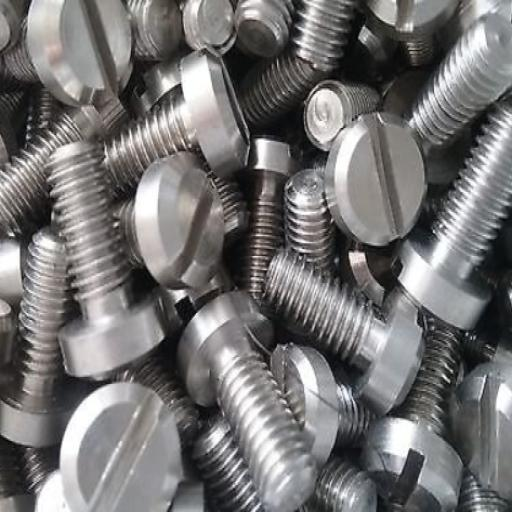Slotted: (62, 385, 180, 512), (327, 111, 427, 243)
